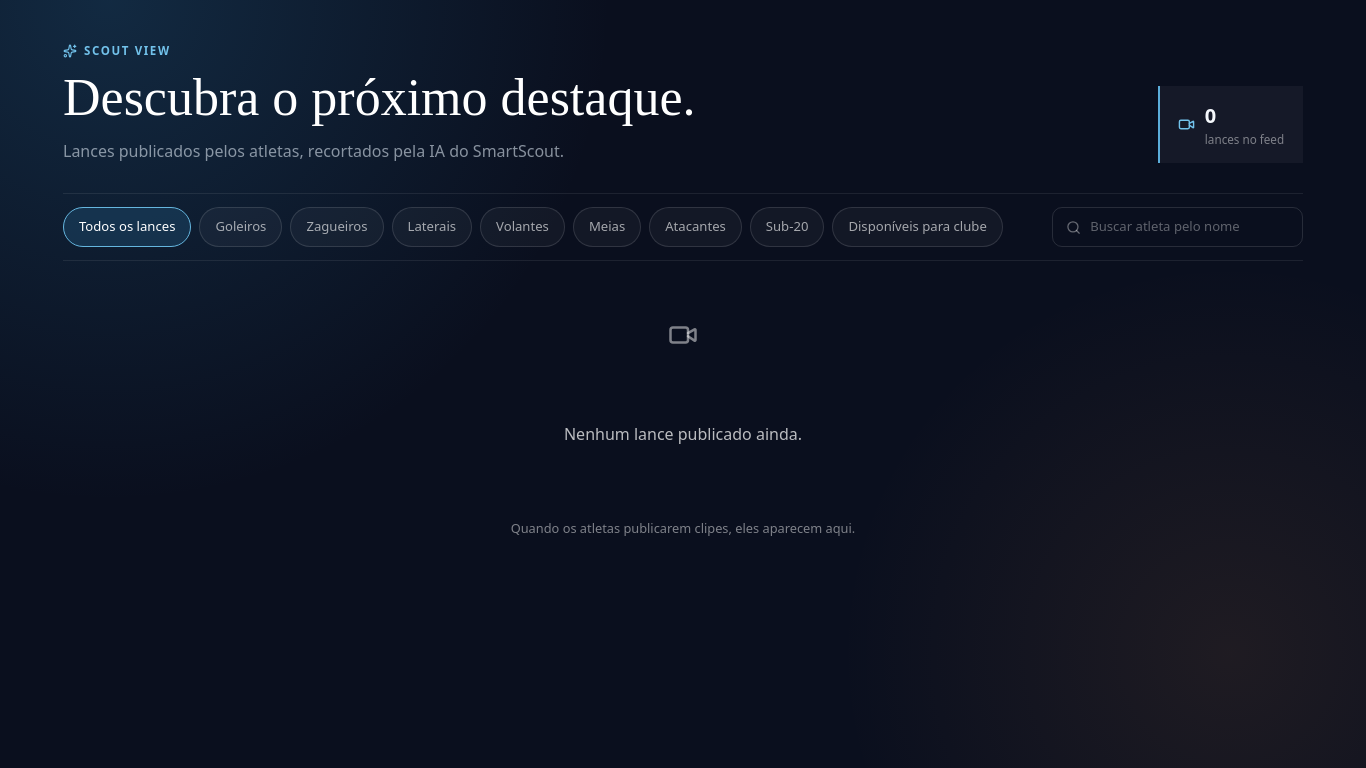
Scenario: Feed › filtro de posicao vai para a API
The width and height of the screenshot is (1366, 768).
Check: the text "Nenhum lance publicado ainda." is shown, box top-left (564, 422), bottom-right (802, 446)
Click the button "Goleiros" at point(241, 227), box top-left (199, 207), bottom-right (282, 247)
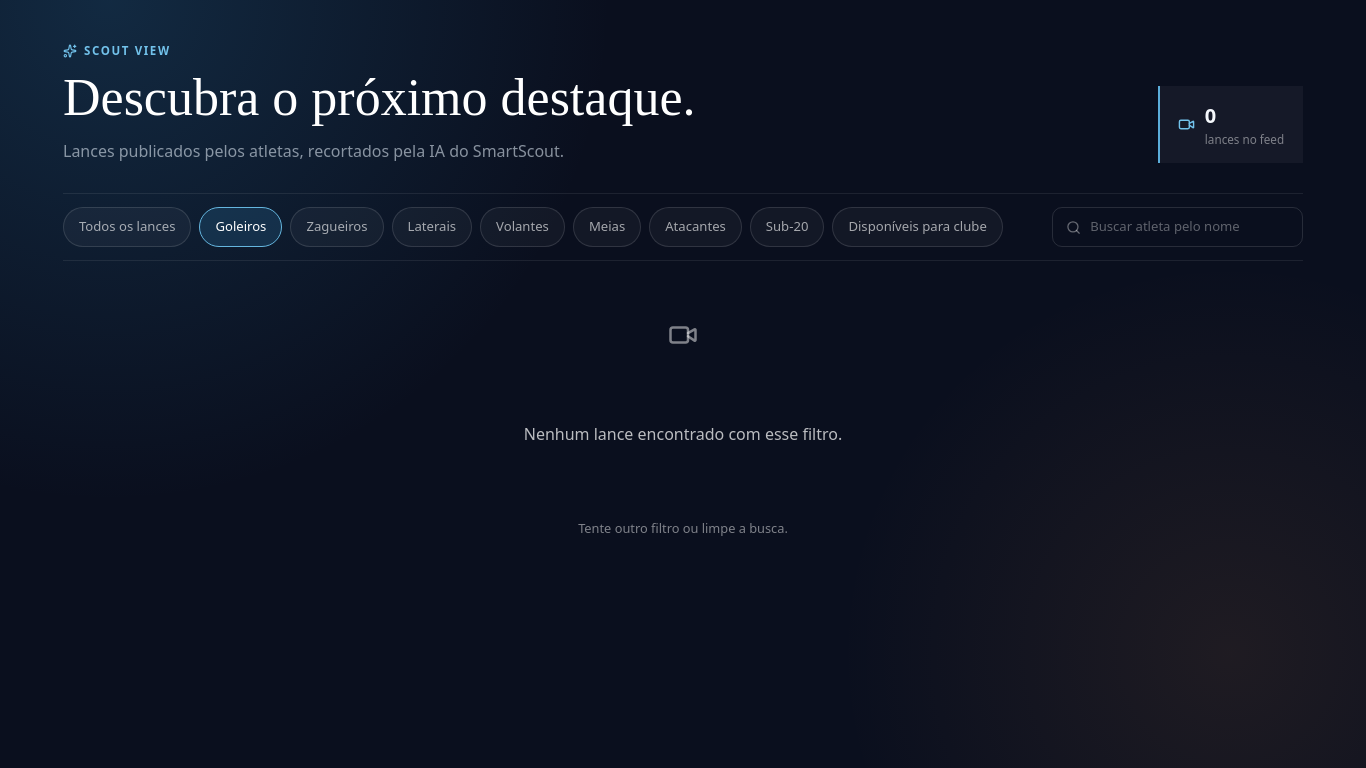
Check: the text "Nenhum lance encontrado com esse filtro." is shown, box top-left (524, 422), bottom-right (842, 446)
